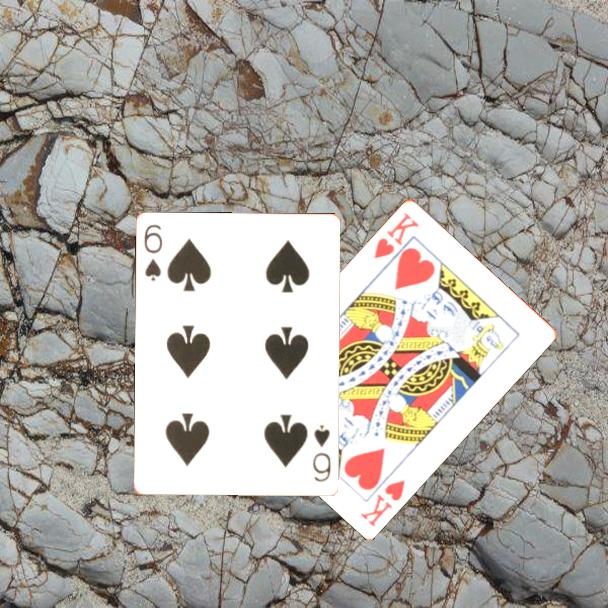h13: (357, 475, 408, 529), (370, 209, 422, 261)
s06: (141, 221, 166, 284), (310, 422, 334, 485)
